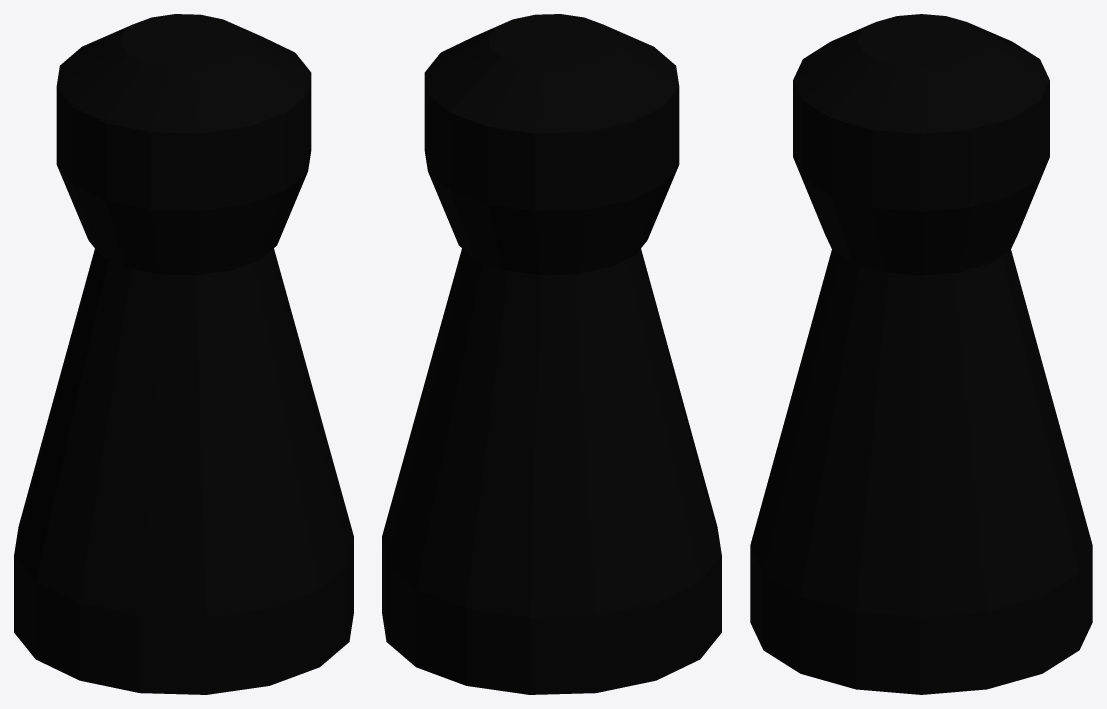
File: block0.obj
3 views of the same model, side by side, from view 1: azimuth 30°, elevation 25°; view 2: azimuth 150°, elevation 25°; view 3: azimuth 270°, elevation 25° (orthographic).
Parts seen in each view (by area): view 1: base, marker; view 2: base, marker; view 3: base, marker.
Part boxes in pixels (box(x1,y1,x2,y2)): base: box(14, 14, 353, 694); marker: box(14, 536, 353, 655); base: box(382, 14, 721, 694); marker: box(382, 536, 721, 655); base: box(750, 14, 1092, 694); marker: box(750, 545, 1092, 656).
Bounding box in the file's own units: 0.5 × 0.9375 × 0.5.
